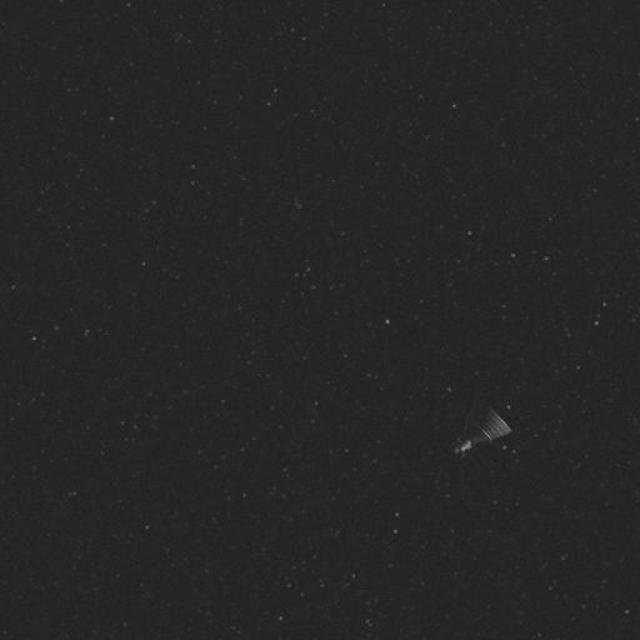debris: (445, 376, 523, 467)
